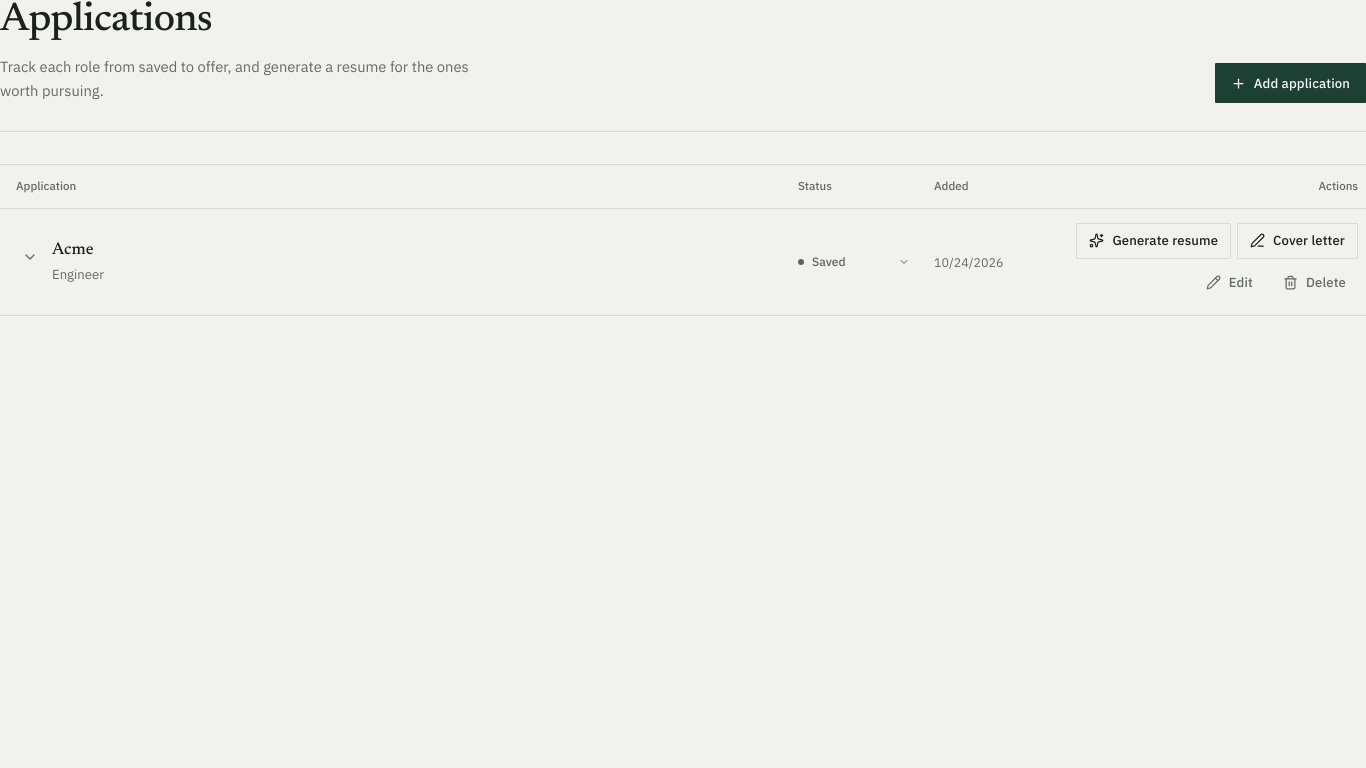
Test case: ApplicationsPage › warns to polish the profile before generating a resume
Expected: the heading "Applications" is shown, [0, 1, 212, 41]
Click the button with aria-label "Generate resume for Engineer at Acme".
click(1154, 241)  # box [1076, 223, 1231, 259]
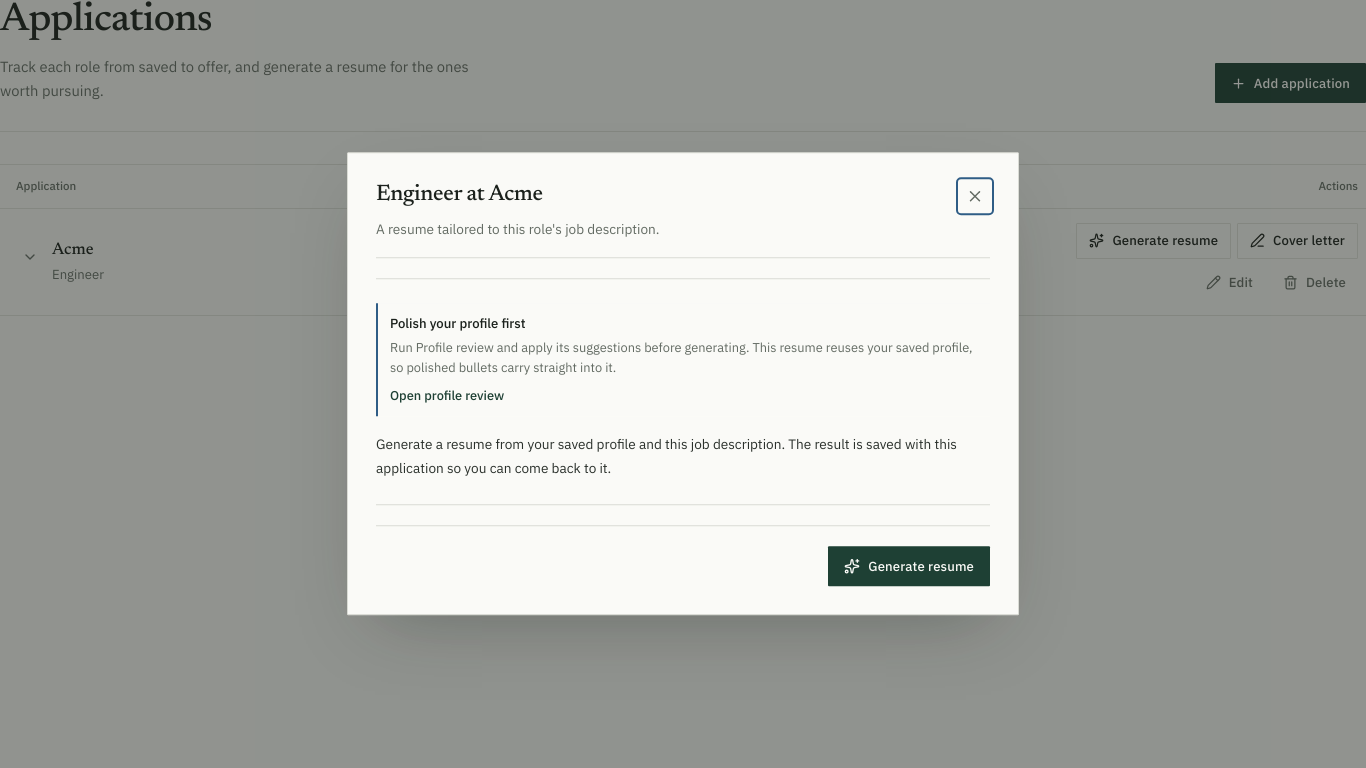
Result: the text "Polish your profile first" is shown at [390, 315, 526, 332]
